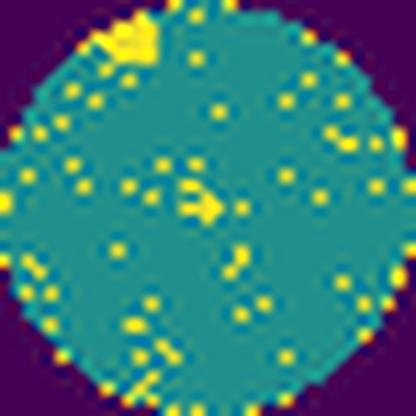Edge-Loc: (74, 4, 162, 73)
